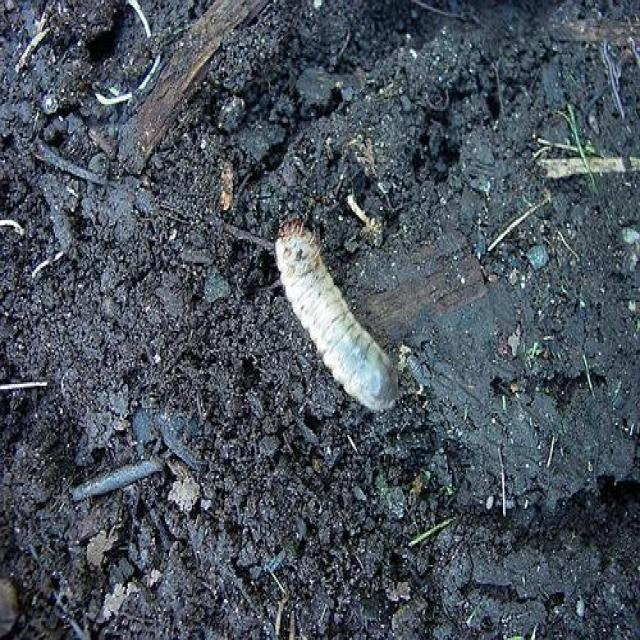Grub-Adult-: (274, 210, 408, 428)
